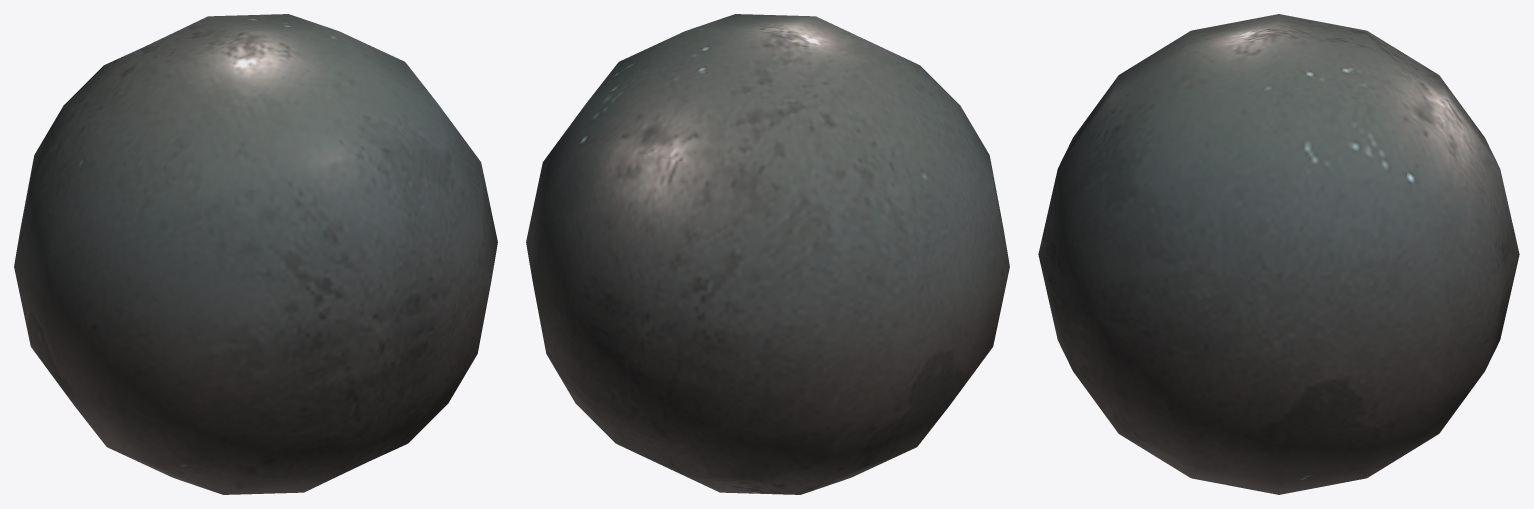
Rendered from chrome_ball.fbx.
3 renders of one model, left to right at view 1: azimuth 30°, elevation 25°; view 2: azimuth 150°, elevation 25°; view 3: azimuth 270°, elevation 25°, orthographic.
Parts seen in each view (by area): view 1: chrome_ball; view 2: chrome_ball; view 3: chrome_ball.
Part boxes in pixels (<box>): chrome_ball: <box>14,14,497,494</box>; chrome_ball: <box>526,14,1009,494</box>; chrome_ball: <box>1038,14,1519,494</box>.
Bounding box in the file's own units: 0.3569 × 0.3569 × 0.3569.
